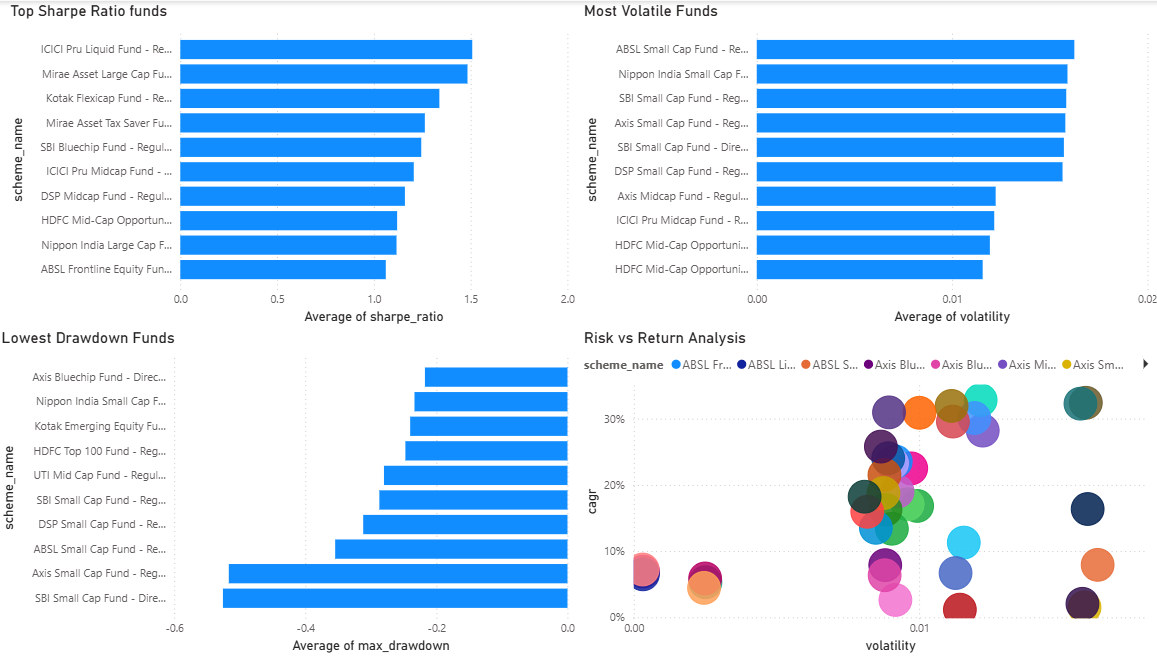

What the dashboard file says about the page in this screenshot:
{"tool":"powerbi","page":{"name":"Fund Performance","canvas":[1280,720],"ordinal":1},"visuals":[{"type":"clusteredBarChart","title":"Top Sharpe Ratio funds","fields":{"Category":["fund_analytics_final.scheme_name"],"Y":["Avg(fund_analytics_final.sharpe_ratio)"]},"box":[9.6,0,629.8,359.5],"z":0},{"type":"clusteredBarChart","title":"Lowest Drawdown Funds","fields":{"Category":["fund_analytics_final.scheme_name"],"Y":["Avg(fund_analytics_final.max_drawdown)"]},"box":[0,359.5,639.5,360.9],"z":1000},{"type":"clusteredBarChart","title":"Most Volatile Funds","fields":{"Category":["fund_analytics_final.scheme_name"],"Y":["Avg(fund_analytics_final.volatility)"]},"box":[639.5,0,640.8,359.5],"z":2000},{"type":"scatterChart","title":"Risk vs Return Analysis","fields":{"X":["fund_analytics_final.volatility"],"Y":["fund_analytics_final.cagr"],"Series":["fund_analytics_final.scheme_name"],"Size":["CountNonNull(fund_analytics_final.score)"]},"box":[639.5,359.5,640.8,360.9],"z":3000}]}

Visuals, with their boxes in screenshot pixels (x1, y1, x2, y2), scaled from the page's 1280x720 canvas onto the 1157x656 screenshot:
"Top Sharpe Ratio funds" clusteredBarChart: select_region(9, 0, 578, 328)
"Lowest Drawdown Funds" clusteredBarChart: select_region(0, 328, 578, 655)
"Most Volatile Funds" clusteredBarChart: select_region(578, 0, 1156, 328)
"Risk vs Return Analysis" scatterChart: select_region(578, 328, 1156, 655)
